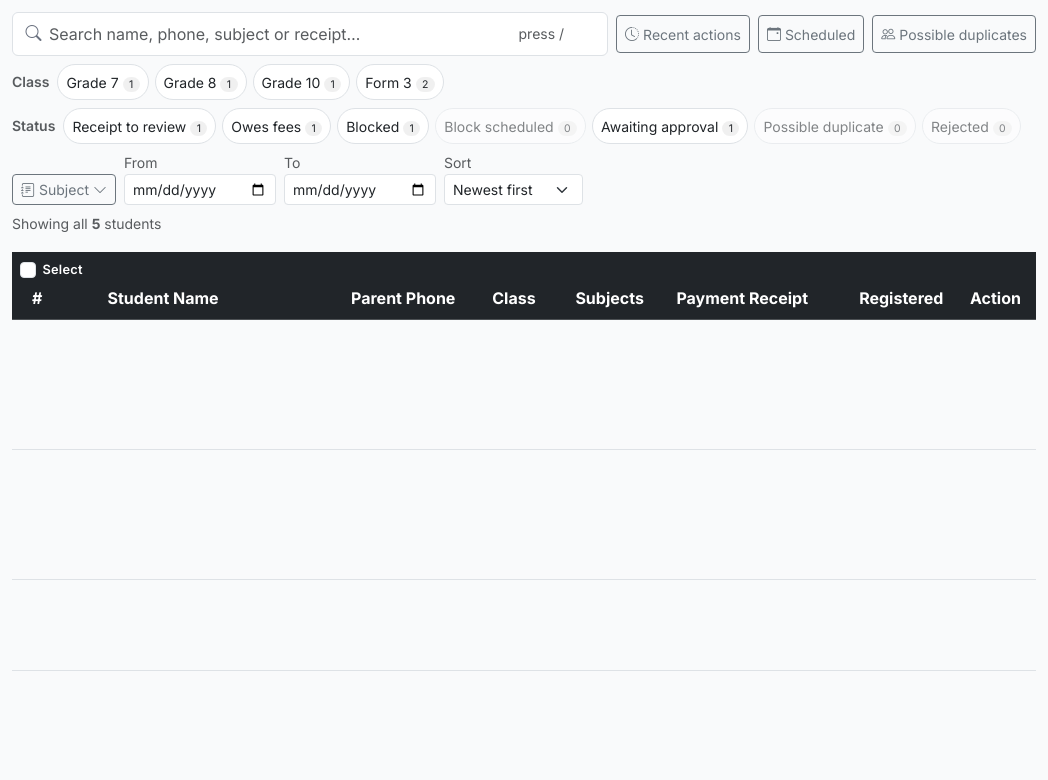
Test: nothing matches › suggests the closest name and applies it in one tap
Type "amnia wnajiur" into the search field named "Search students".
click(310, 34); type("amnia wnajiur")  # box 12,12 -> 608,56
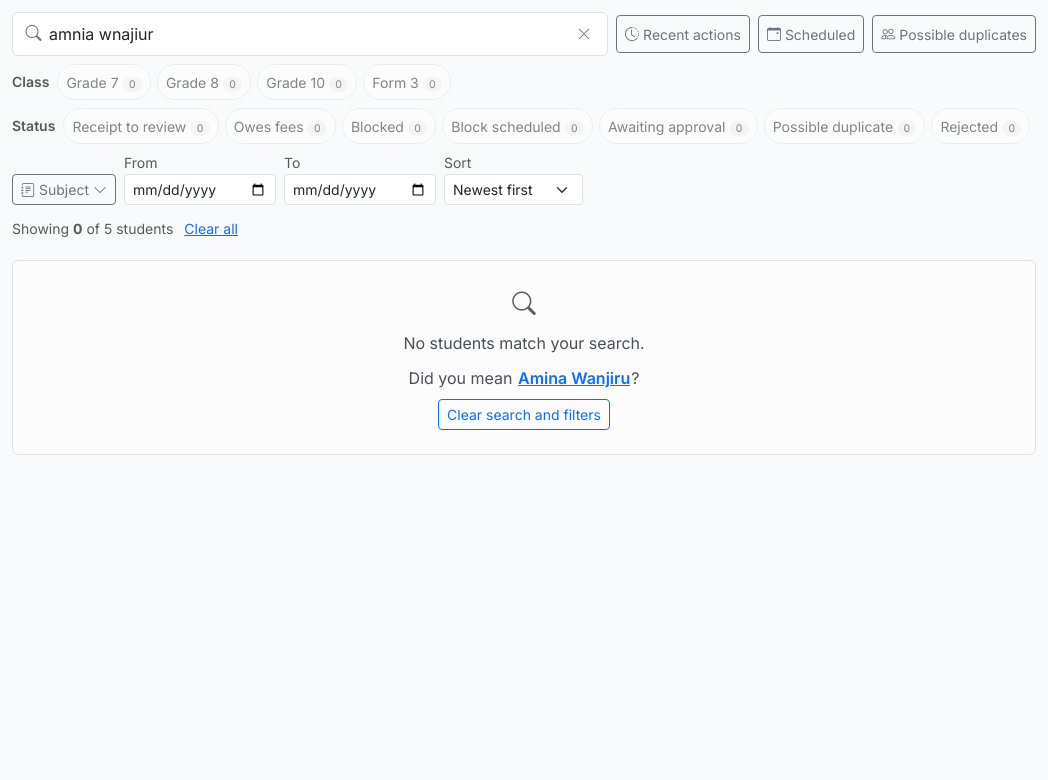
Click the button "Amina Wanjiru".
click(574, 378)  # box 517,364 -> 631,390
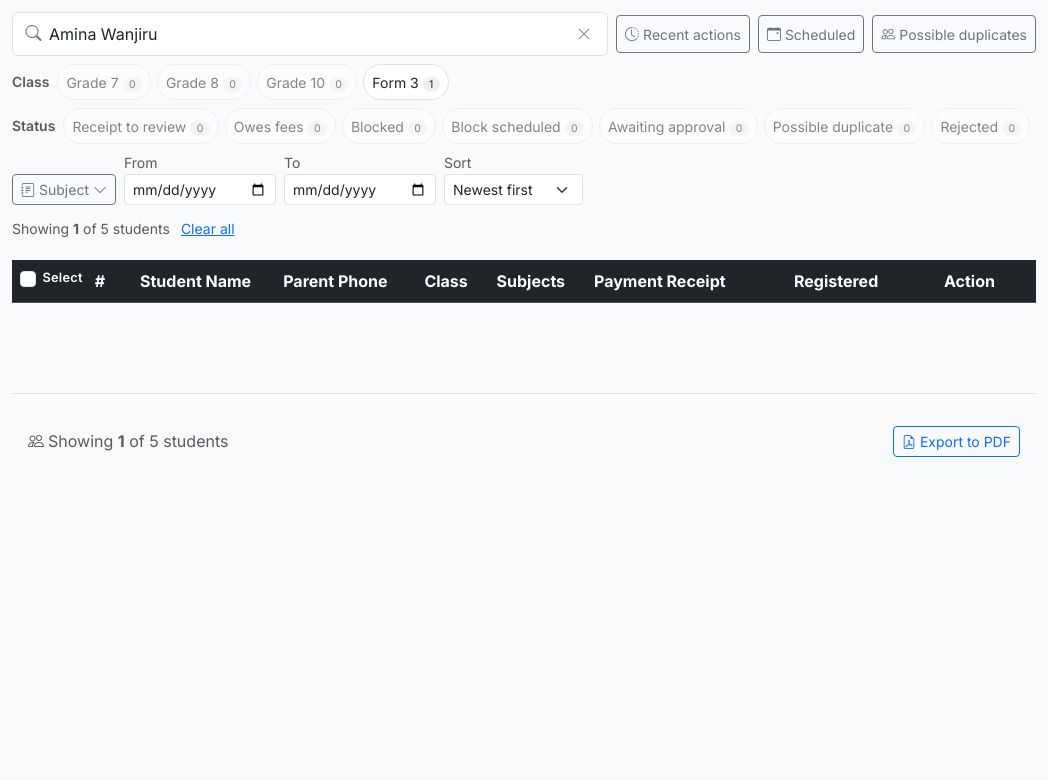
Check: the search field named "Search students" holds "Amina Wanjiru", box 12,12 -> 608,56
